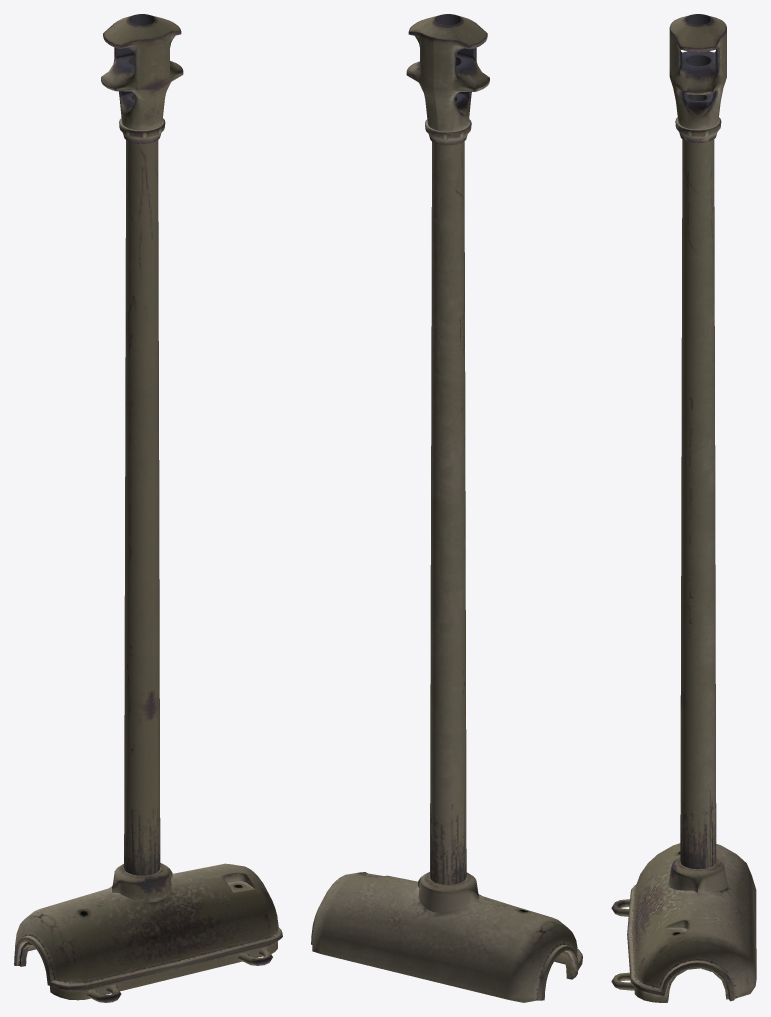
Rendered from Gun_02.glb.
The picture shows the model from 3 angles, left to right: view 1: azimuth 30°, elevation 25°; view 2: azimuth 150°, elevation 25°; view 3: azimuth 270°, elevation 25°; orthographic projection.
Visible parts, largest first — view 1: set_0_group_0; view 2: set_0_group_0; view 3: set_0_group_0.
Boxes of the visible parts, x1=… form: set_0_group_0: x1=14, y1=14, x2=282, y2=1002; set_0_group_0: x1=311, y1=14, x2=582, y2=1002; set_0_group_0: x1=611, y1=14, x2=756, y2=1002.
Size of the model in its own units: 1.5 by 5.8 by 0.8234.
Materials: 1 (1 with a texture image).
